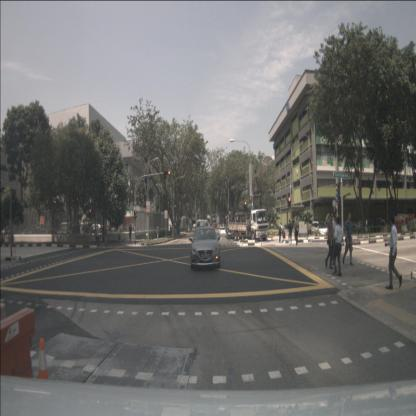barrier: (0, 302, 35, 378), (390, 213, 416, 235)
cone: (35, 337, 52, 389)
